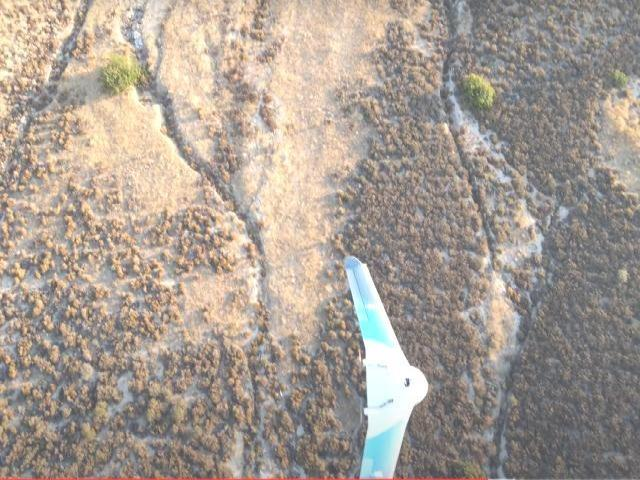iha: (330, 249, 426, 480)
